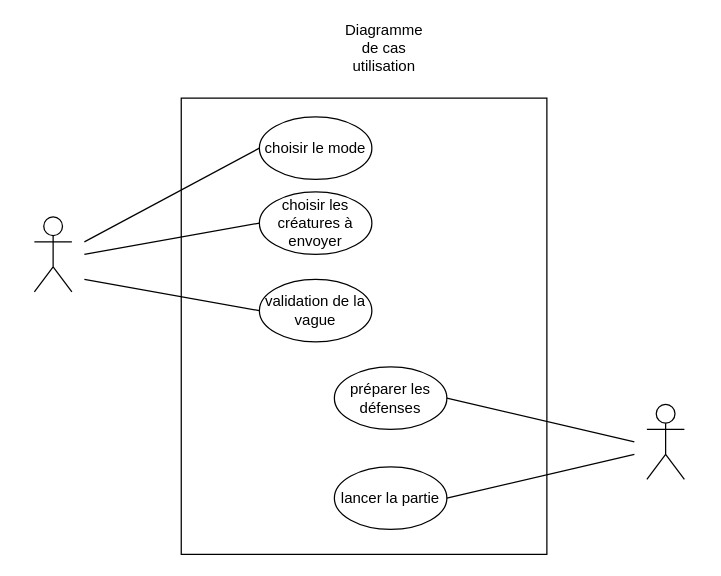
The diagram is 721 pixels wide and 576 high, and some of its shapes have lost their labels. Each missing label, with the box of its shape:
Attaquant: (33, 216, 72, 292)
Défenseur: (646, 403, 684, 479)
